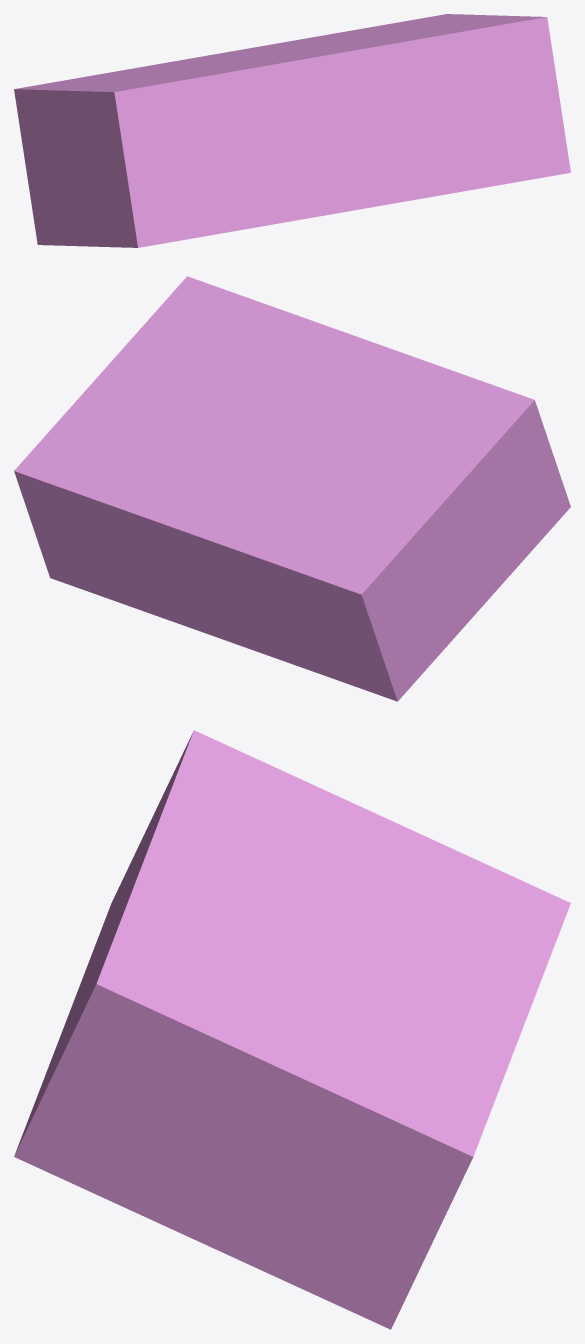
The model's file is Trash3.fbx.
3 views of the same model, one above another, from view 1: azimuth 30°, elevation 25°; view 2: azimuth 150°, elevation 25°; view 3: azimuth 270°, elevation 25° (orthographic). The views are drawn at different scales.
Visible parts, largest first — view 1: Cube.001; view 2: Cube.001; view 3: Cube.001.
Boxes of the visible parts, box(x1,y1,x2,y2) form: Cube.001: box(14, 14, 570, 247); Cube.001: box(14, 276, 570, 701); Cube.001: box(14, 730, 570, 1329).
Size of the model in its own units: 39.54 by 20.96 by 31.97.
